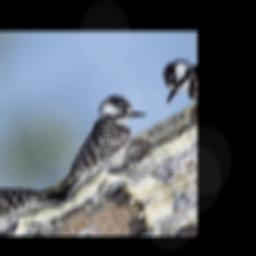Woodpecker: (30, 80, 179, 216)
